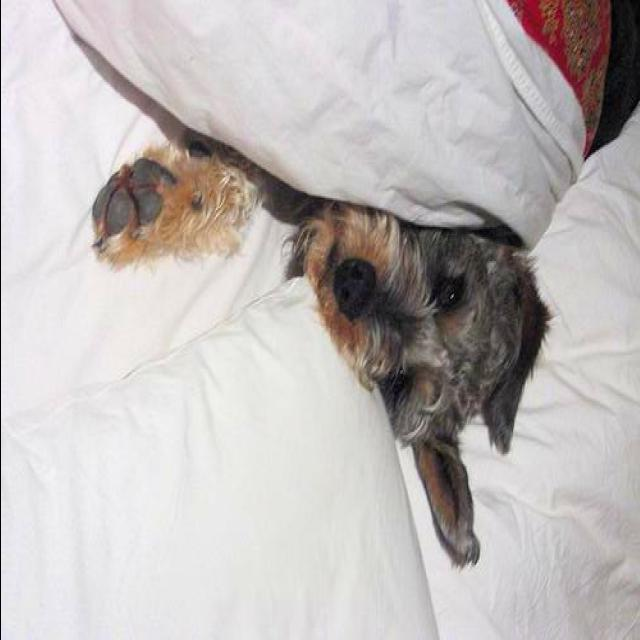standard_schnauzer: (100, 9, 640, 574)
